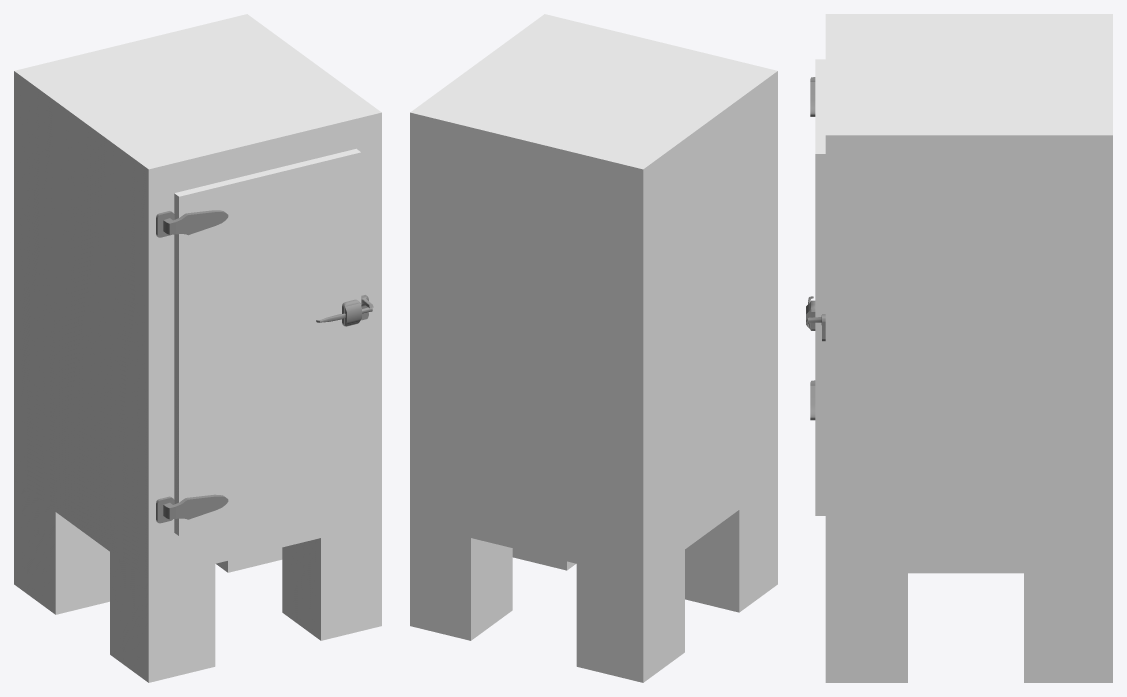
The model's file is refrigerator.fbx.
3 views of the same model, side by side, from view 1: azimuth 30°, elevation 25°; view 2: azimuth 150°, elevation 25°; view 3: azimuth 270°, elevation 25° (orthographic). The views are drawn at different scales.
Visible parts, largest first — view 1: pCube12; view 2: pCube12; view 3: pCube12.
Part boxes in pixels (bbox=[...]): pCube12: bbox=[14, 14, 381, 682]; pCube12: bbox=[410, 14, 777, 682]; pCube12: bbox=[806, 14, 1112, 682].
Size of the model in its own units: 5.13 by 10.79 by 5.48.
